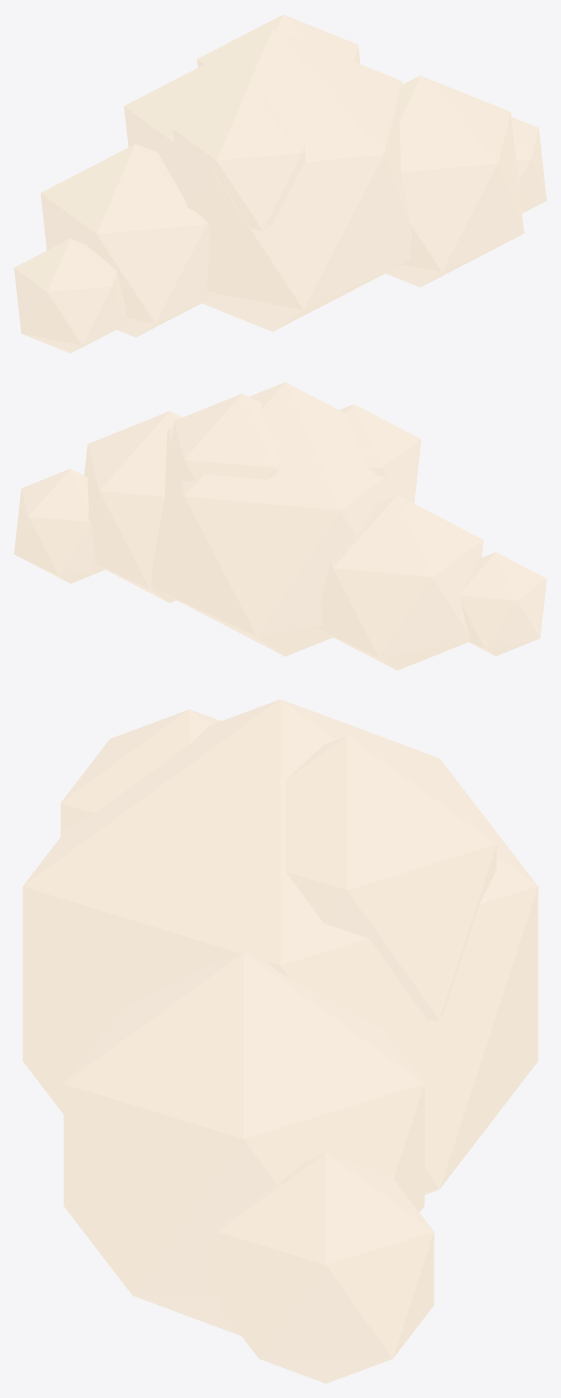
Rendered from sky_cloud.glb.
3 views of the same model, one above another, from view 1: azimuth 30°, elevation 25°; view 2: azimuth 150°, elevation 25°; view 3: azimuth 270°, elevation 25° (orthographic). The views are drawn at different scales.
Visible parts, largest first — view 1: sky_cloud; view 2: sky_cloud; view 3: sky_cloud.
Boxes of the visible parts, left/top/right/bottom form: sky_cloud: left=14, top=14, right=546, bottom=353; sky_cloud: left=14, top=382, right=546, bottom=670; sky_cloud: left=22, top=699, right=538, bottom=1383.
Bounding box in the file's own units: 3.77 × 2 × 1.7.
